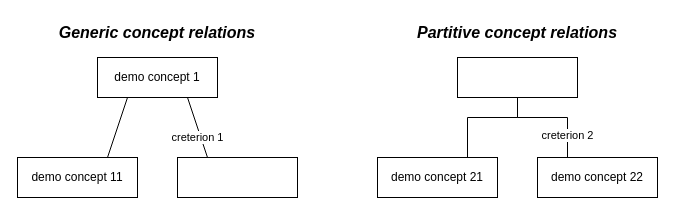
This 675x215 diagram has some shape labels left out. The centre of each missing label's shape, as x and y in pixels:
demo concept 12: (x=237, y=177)
demo concept 2: (x=517, y=77)
